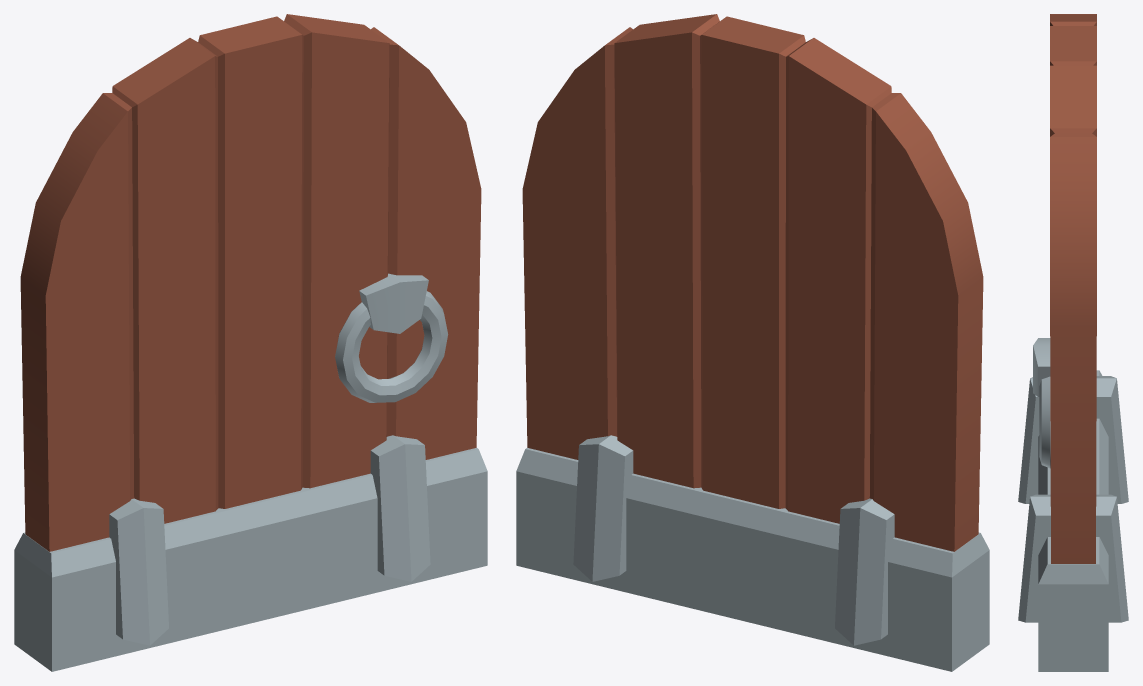
File: door.glb
3 renders of one model, left to right at view 1: azimuth 30°, elevation 25°; view 2: azimuth 150°, elevation 25°; view 3: azimuth 270°, elevation 25°, orthographic. The views are drawn at different scales.
Visible parts, largest first — view 1: door; view 2: door; view 3: door.
Boxes of the visible parts, <box> form: door: <box>14,14,487,671</box>; door: <box>516,14,989,671</box>; door: <box>1018,14,1128,671</box>.
Bounding box in the file's own units: 0.35 × 0.4375 × 0.0829.
